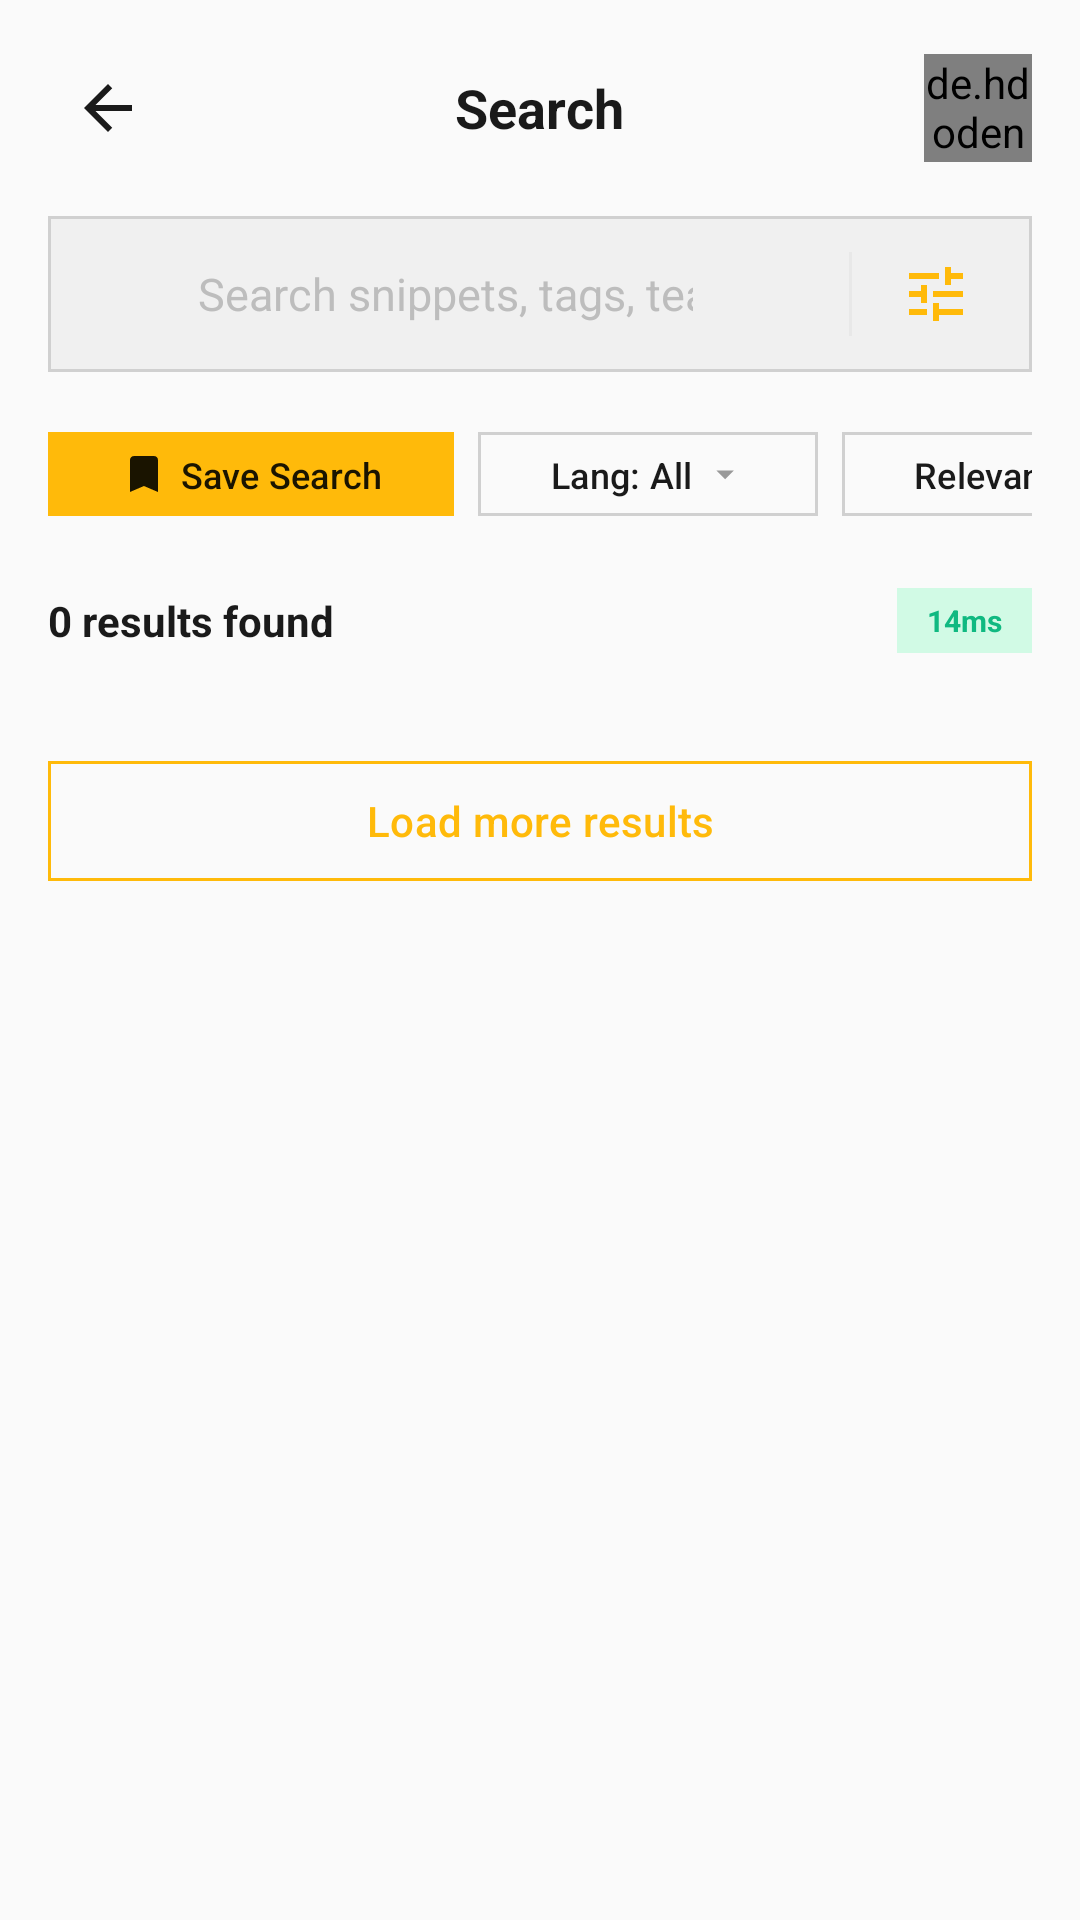

Icons on this 1080×1920 Android screen, each with its box as Rect(x1, y1, x2, y2):
Back: Rect(84, 84, 132, 132)
Filters: Rect(909, 267, 963, 321)
